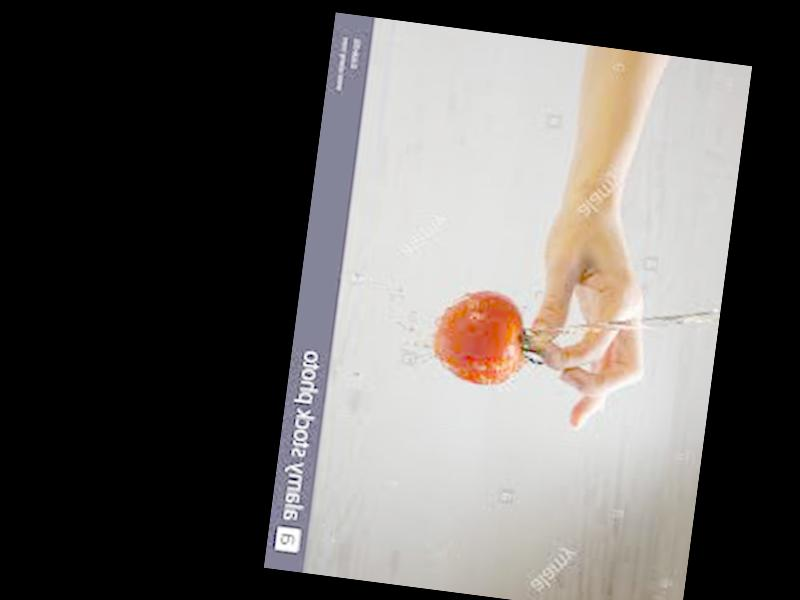Tomato: (427, 281, 530, 386)
